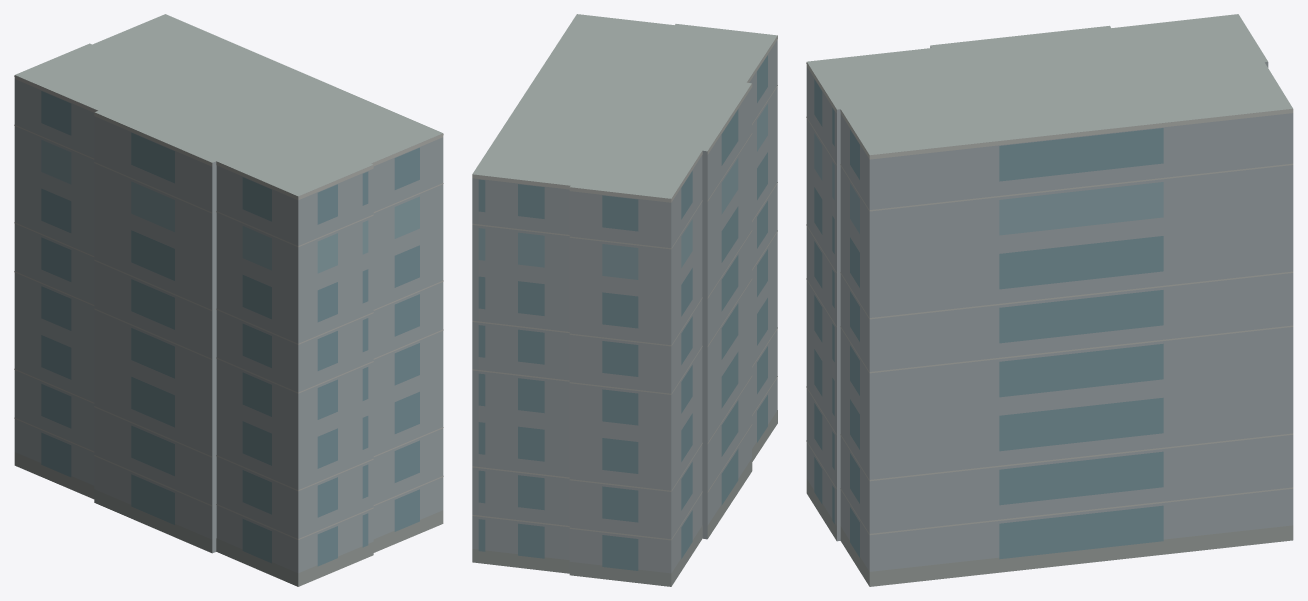
File: survey-upis-33012227.glb
The picture shows the model from 3 angles, left to right: view 1: azimuth 30°, elevation 25°; view 2: azimuth 150°, elevation 25°; view 3: azimuth 270°, elevation 25°; orthographic projection. The views are drawn at different scales.
Parts seen in each view (by area): view 1: survey-upis-33012227.tmp; view 2: survey-upis-33012227.tmp; view 3: survey-upis-33012227.tmp.
Part boxes in pixels (box(x1,y1,x2,y2)): survey-upis-33012227.tmp: box(14, 14, 443, 586); survey-upis-33012227.tmp: box(472, 14, 777, 586); survey-upis-33012227.tmp: box(806, 14, 1293, 586).
Bounding box in the file's own units: 17.08 × 24.3 × 24.85.
